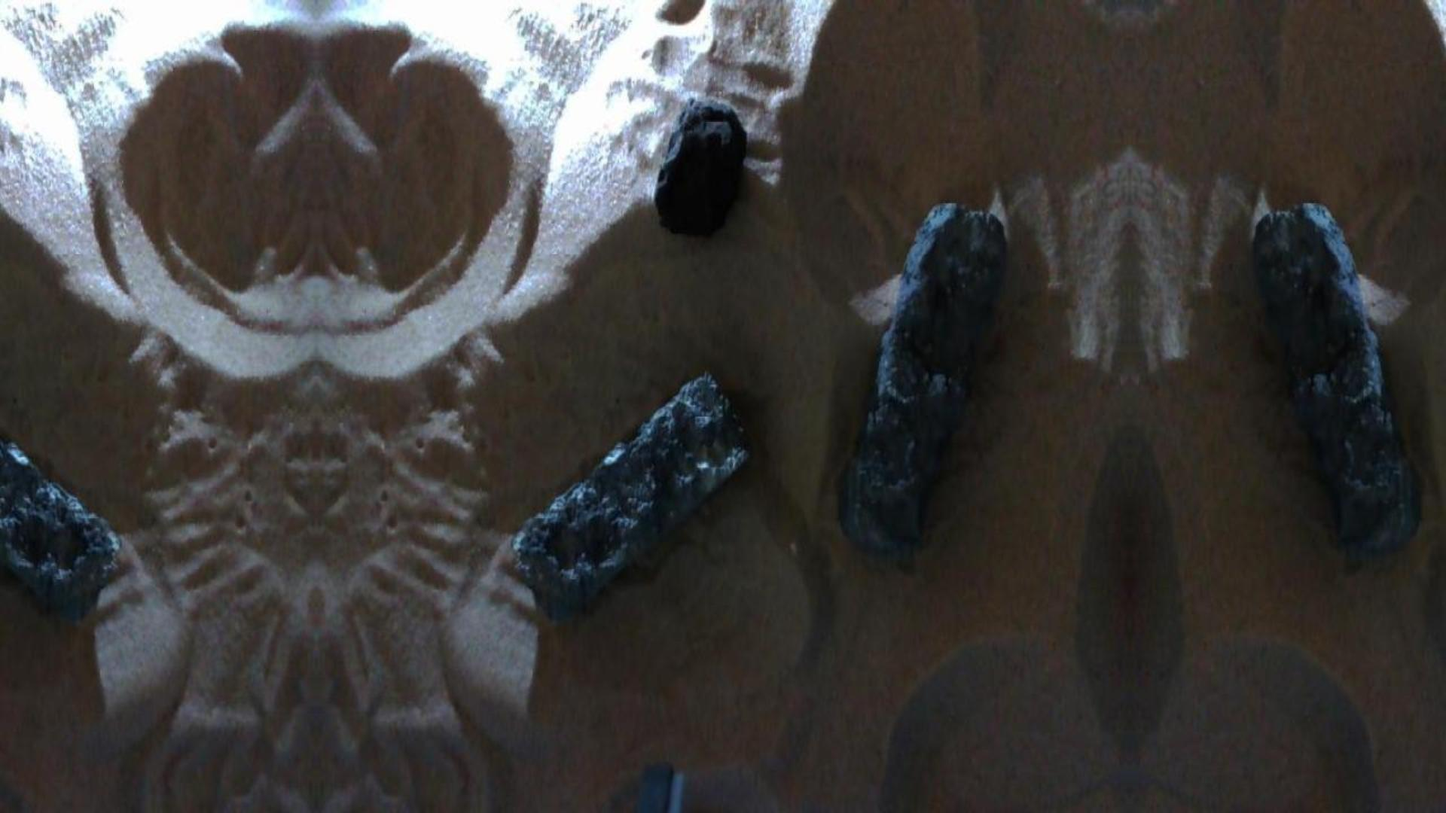rock: (839, 202, 1005, 560), (1253, 202, 1419, 559), (511, 374, 748, 620), (0, 439, 121, 620), (654, 99, 746, 235)
